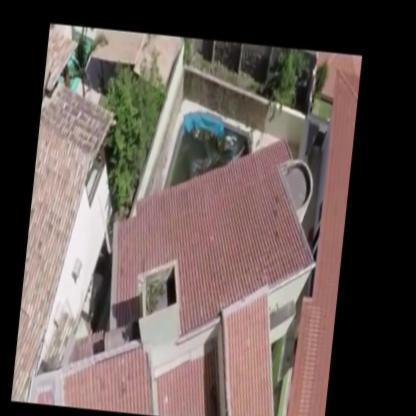agua: (183, 117, 235, 165)
